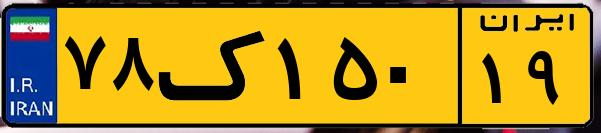0: (385, 28, 445, 110)
1: (270, 28, 330, 110), (475, 38, 525, 113)
5: (330, 28, 385, 110)
7: (57, 26, 110, 100)
8: (110, 28, 158, 98)
9: (525, 38, 570, 115)
ک: (158, 12, 270, 120)
